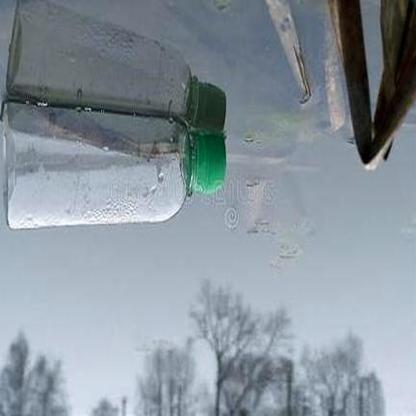plastic bottle: (1, 102, 228, 230)
